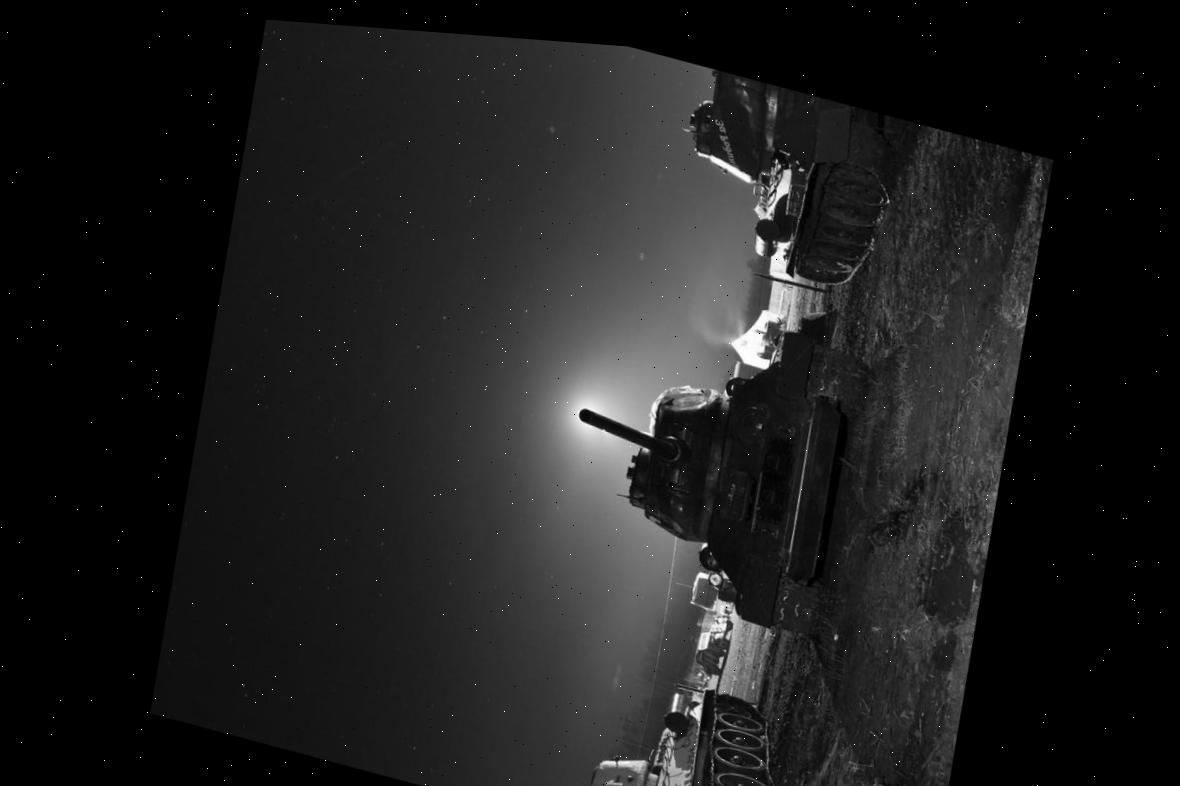tank: (540, 272, 888, 650), (555, 41, 912, 304), (554, 651, 804, 786)
